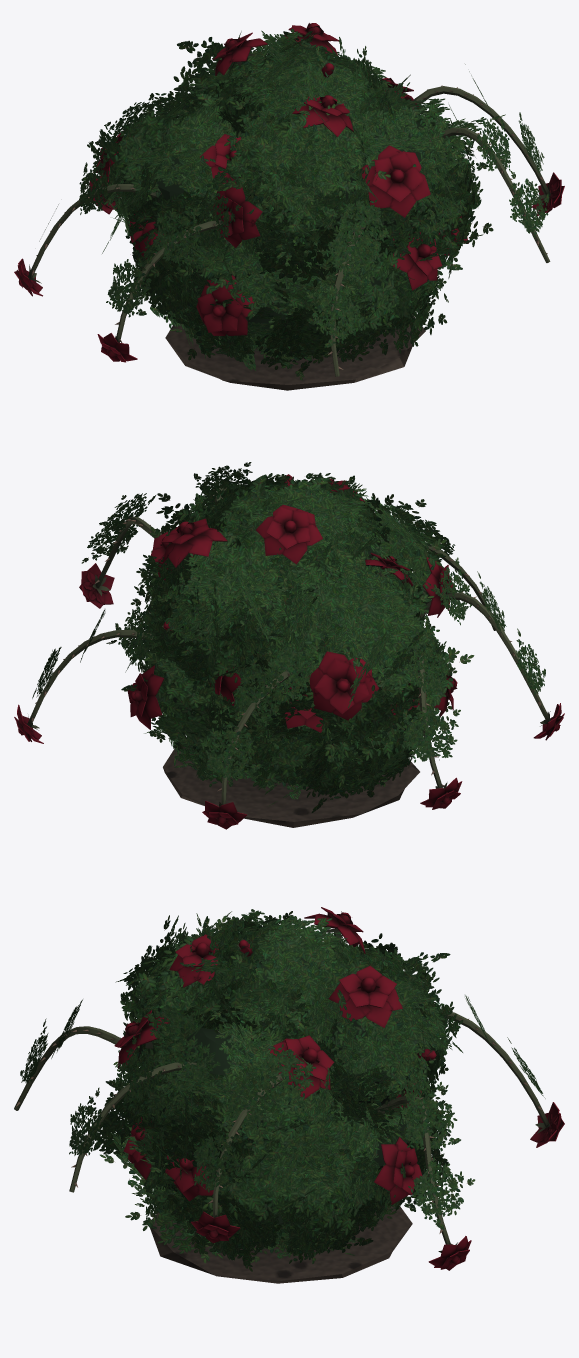
The model's file is RoseBushCrimson.fbx.
3 renders of one model, top to bottom at view 1: azimuth 30°, elevation 25°; view 2: azimuth 150°, elevation 25°; view 3: azimuth 270°, elevation 25°, orthographic. The views are drawn at different scales.
Parts seen in each view (by area): view 1: RoseBushCrimson_Leaves, RoseBushCrimson_Main; view 2: RoseBushCrimson_Leaves, RoseBushCrimson_Main; view 3: RoseBushCrimson_Leaves, RoseBushCrimson_Main.
Boxes of the visible parts, x1=… form: RoseBushCrimson_Leaves: x1=39, y1=28, x2=549, y2=380; RoseBushCrimson_Main: x1=14, y1=23, x2=564, y2=390; RoseBushCrimson_Leaves: x1=32, y1=462, x2=545, y2=812; RoseBushCrimson_Main: x1=14, y1=474, x2=564, y2=829; RoseBushCrimson_Leaves: x1=20, y1=909, x2=545, y2=1271; RoseBushCrimson_Main: x1=14, y1=907, x2=564, y2=1283.
Size of the model in its own units: 636 by 430 by 613.
